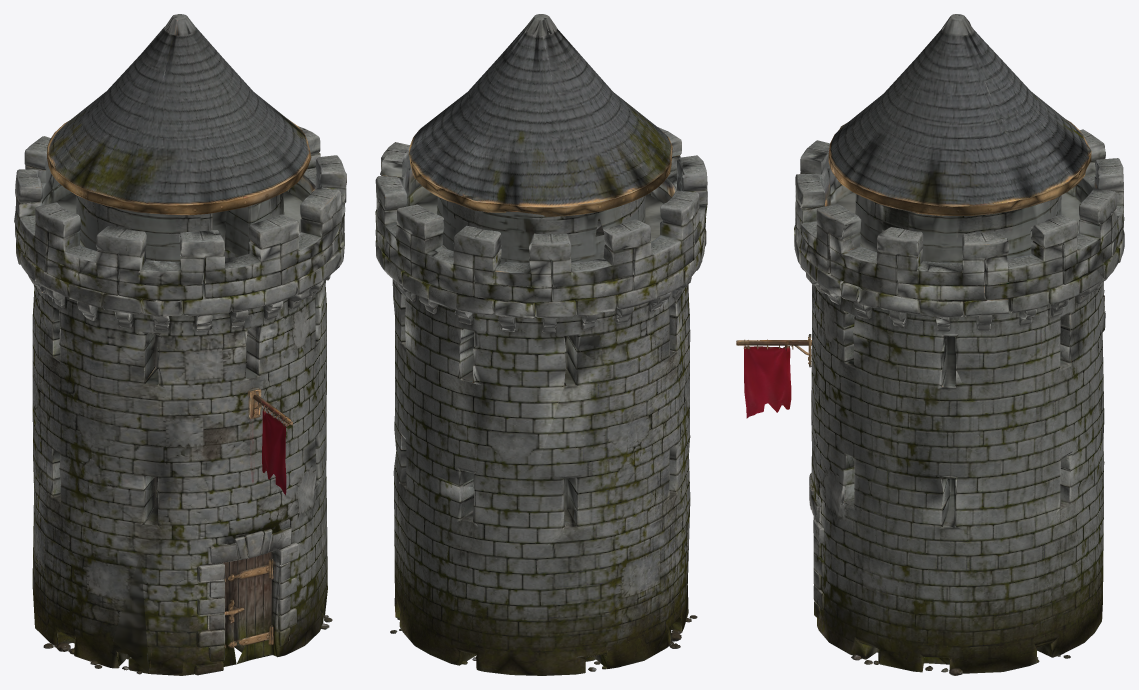
Rendered from cas-tower.fbx.
The picture shows the model from 3 angles, left to right: view 1: azimuth 30°, elevation 25°; view 2: azimuth 150°, elevation 25°; view 3: azimuth 270°, elevation 25°; orthographic projection.
Parts seen in each view (by area): view 1: Mesh_0; view 2: Mesh_0; view 3: Mesh_0.
Boxes of the visible parts, x1,y1,x2,y2 form: Mesh_0: (14,14,346,675); Mesh_0: (375,14,707,675); Mesh_0: (736,14,1124,675).
Bounding box in the file's own units: 48.05 × 95.12 × 56.15.
Materials: 1 (1 with a texture image).
